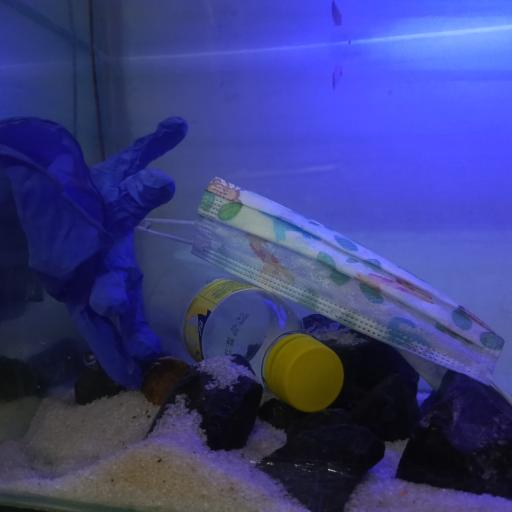bottle_cap: (273, 335, 345, 411)
glove: (1, 117, 188, 388)
mask: (134, 176, 512, 407)
plastic_bottle: (144, 260, 345, 413)
